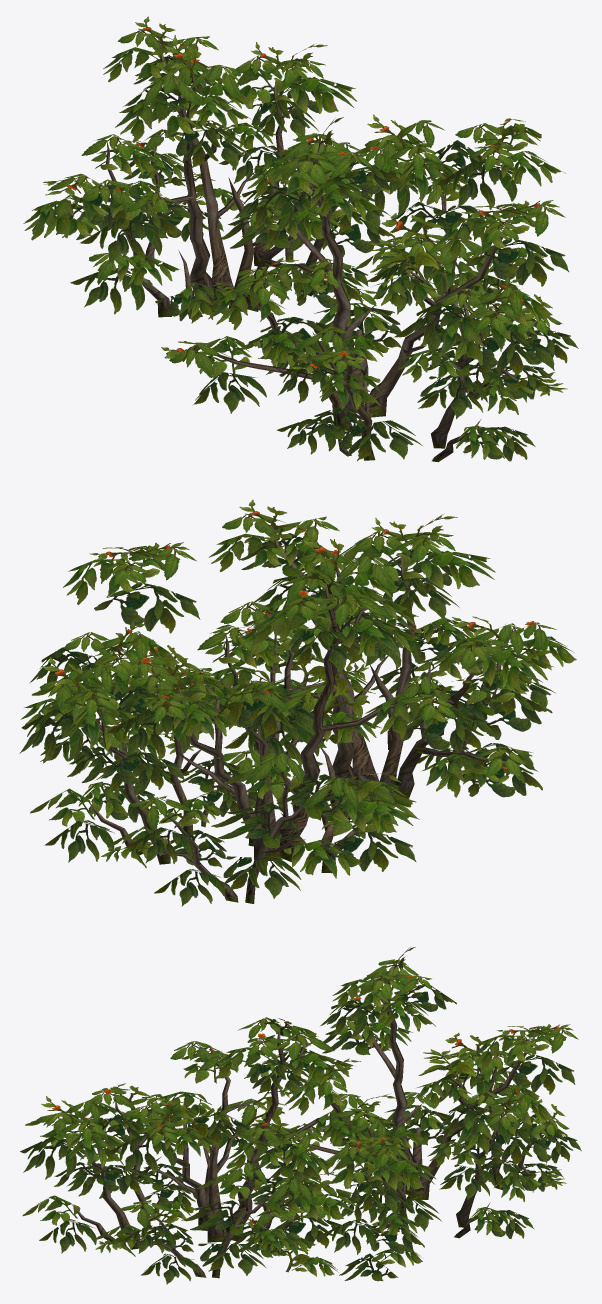
Rendered from DBXJ_01.FBX.
3 renders of one model, top to bottom at view 1: azimuth 30°, elevation 25°; view 2: azimuth 150°, elevation 25°; view 3: azimuth 270°, elevation 25°, orthographic. The views are drawn at different scales.
Parts seen in each view (by area): view 1: DBXJ_01; view 2: DBXJ_01; view 3: DBXJ_01.
Part boxes in pixels (x1,y1,x2,y2): DBXJ_01: (23,16,578,462); DBXJ_01: (19,499,576,906); DBXJ_01: (20,947,581,1284).
Bounding box in the file's own units: 326 × 225 × 442.
1 material, 1 textured.
